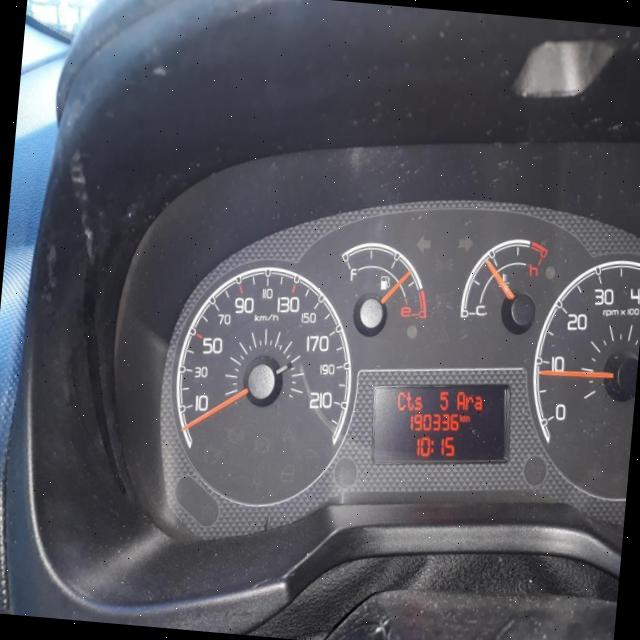odometer: (364, 370, 516, 478)
